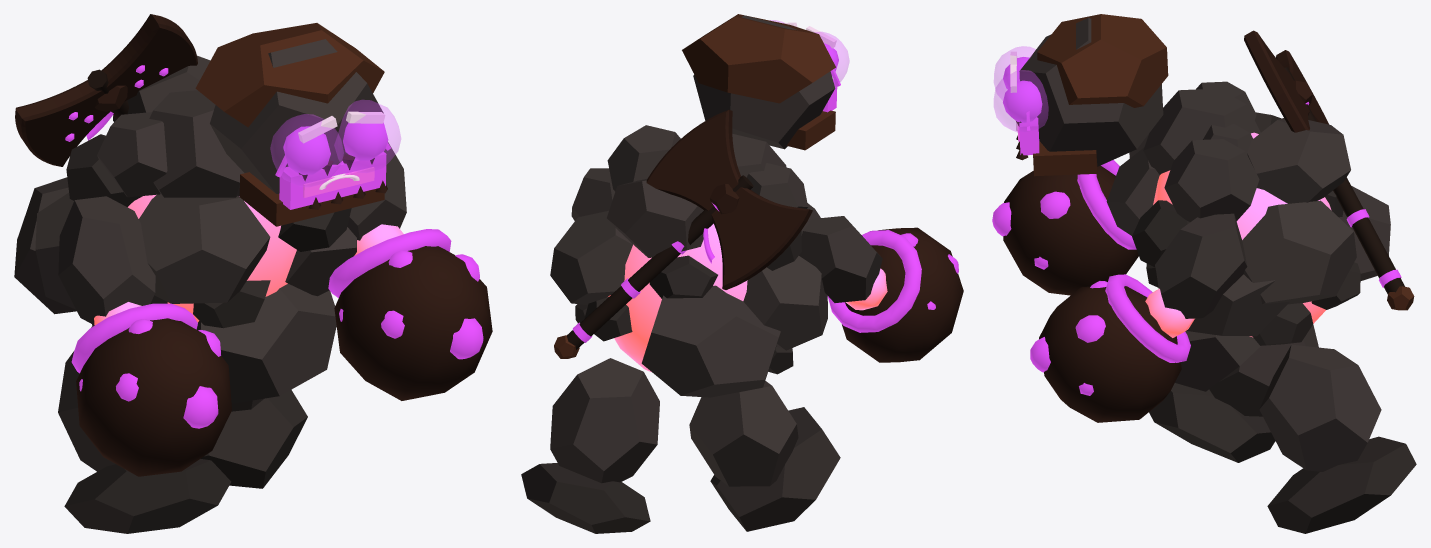
File: slag_alt2.glb
The picture shows the model from 3 angles, left to right: view 1: azimuth 30°, elevation 25°; view 2: azimuth 150°, elevation 25°; view 3: azimuth 270°, elevation 25°; orthographic projection. The views are drawn at different scales.
Size of the model in its own units: 2.35 by 2.94 by 2.41.
